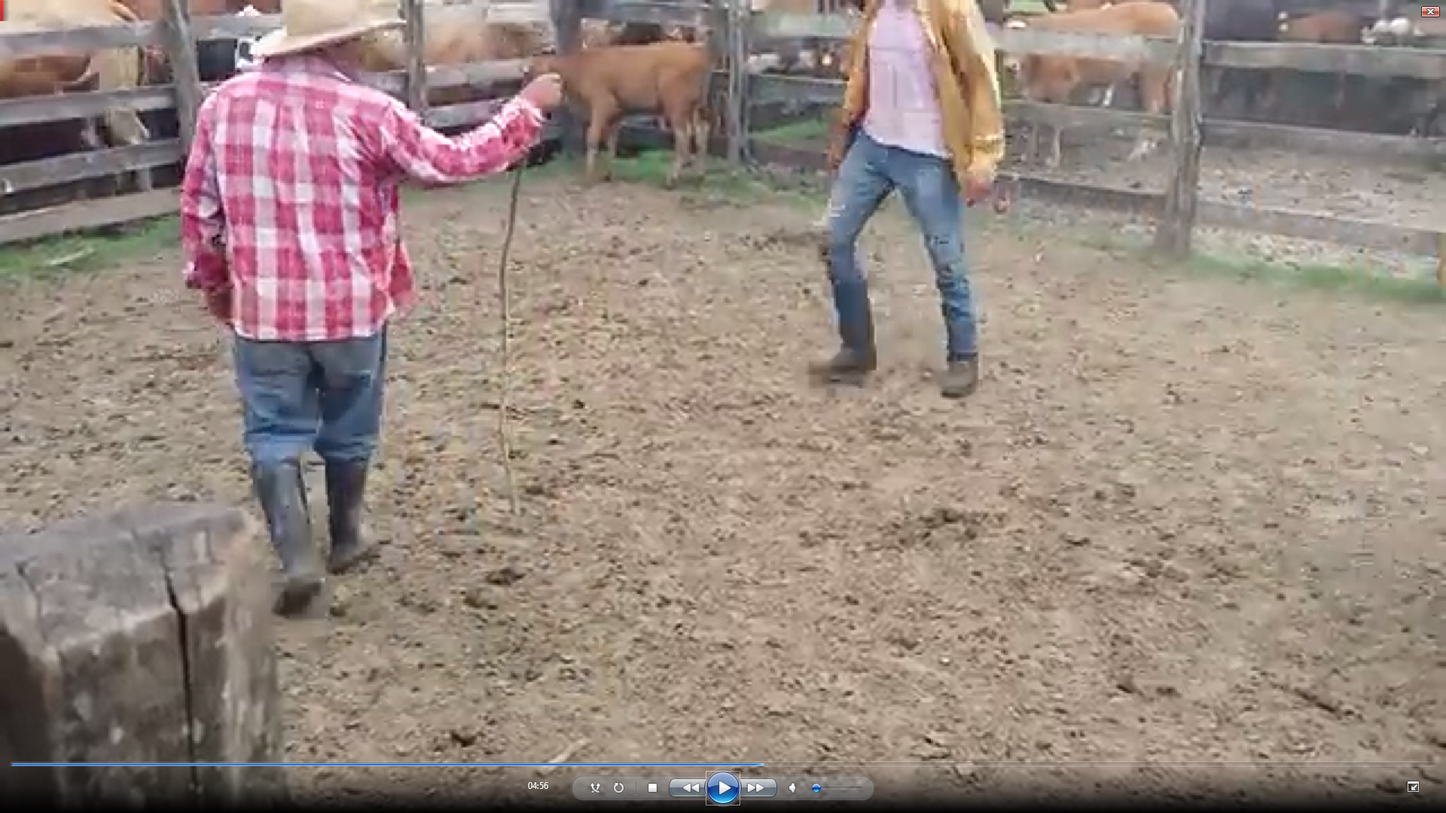bovino: (575, 39, 707, 200)
